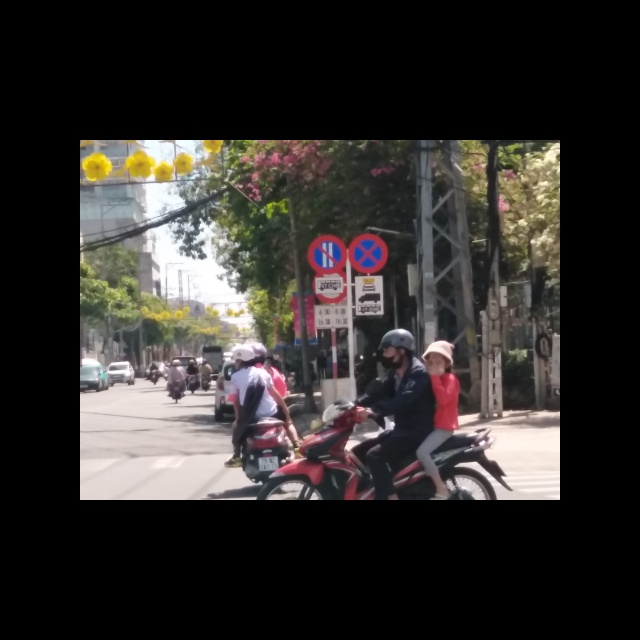Cấm dừng xe và đỗ xe: (347, 233, 387, 273)
Cấm đỗ xe ngày chẵn: (306, 235, 347, 276)
